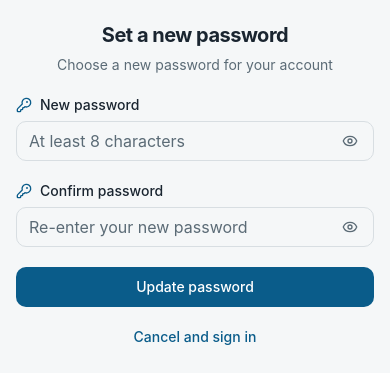
Test case: ResetPassword › rejects mismatched password confirmation
In the password field labelled "New password": (195, 141) x1=16 y1=121 x2=374 y2=161, type "correct-password"
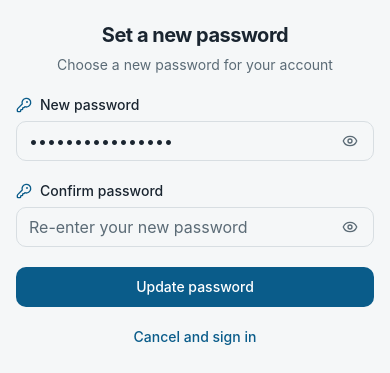
In the password field labelled "Confirm password": (195, 227) x1=16 y1=207 x2=374 y2=247, type "different-password"
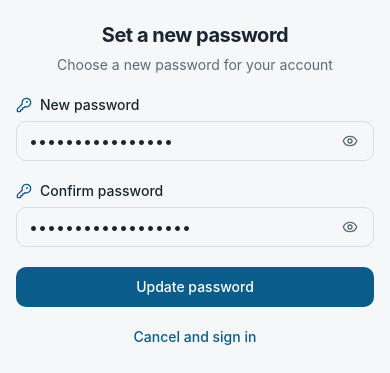
Click the button "Update password": (195, 287) x1=16 y1=267 x2=374 y2=307
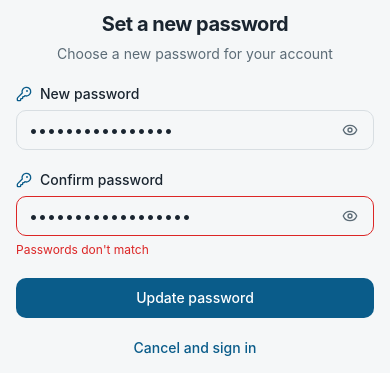
Expected: the text "Passwords don't match" is shown, x1=16 y1=242 x2=149 y2=257
